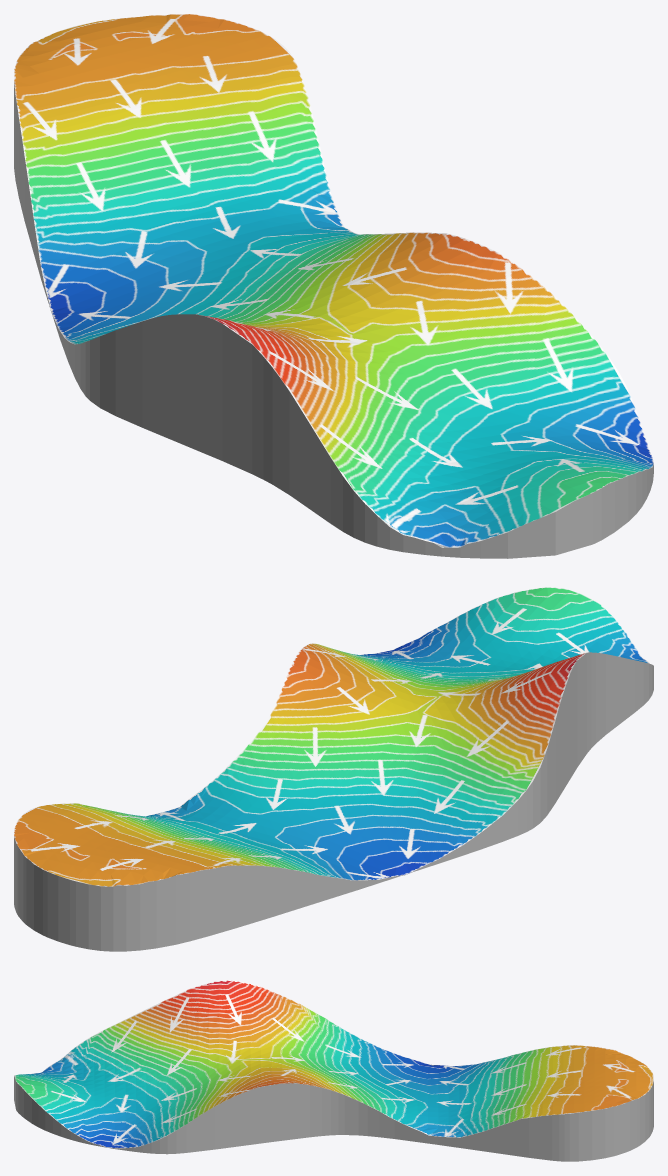
The picture shows the model from 3 angles, top to bottom: view 1: azimuth 30°, elevation 25°; view 2: azimuth 150°, elevation 25°; view 3: azimuth 270°, elevation 25°; orthographic projection. The views are drawn at different scales.
Bounding box in the file's own units: 2.45 × 0.7744 × 5.83.
Materials: 2 (1 with a texture image).
